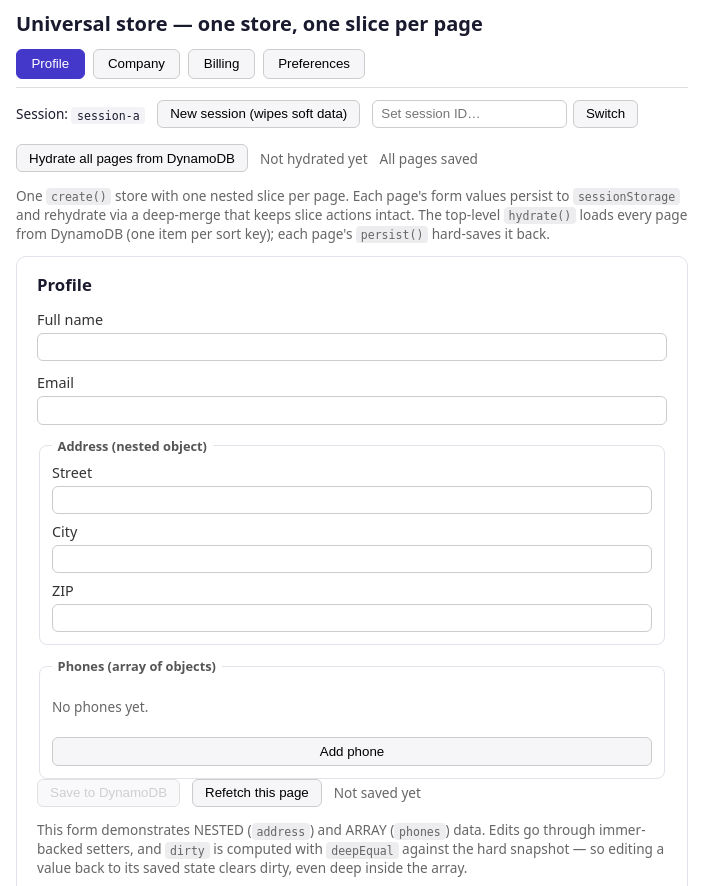
Test: <App /> › shows the Profile tab by default and switches tabs on click
Expected: the heading "Profile" is shown, [37,273,92,296]
Click the button "Company".
click(136, 64)  # box [93,49,180,79]
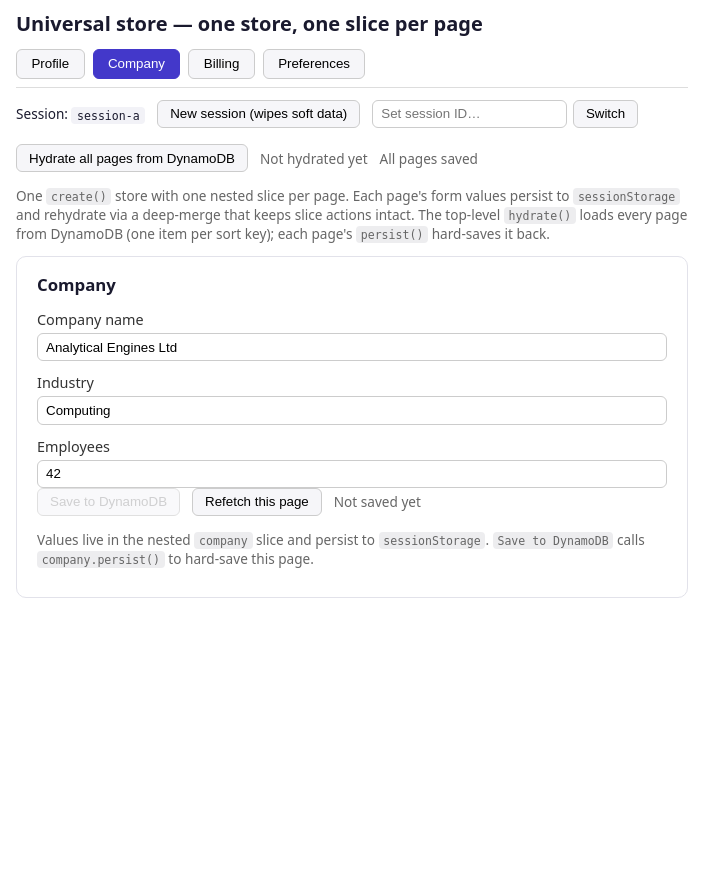
Now the heading "Company" is shown, box [37,273,116,296]
